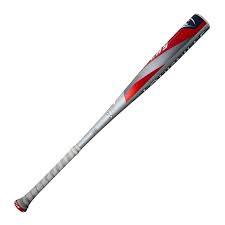baseball bat: (13, 12, 211, 212)
